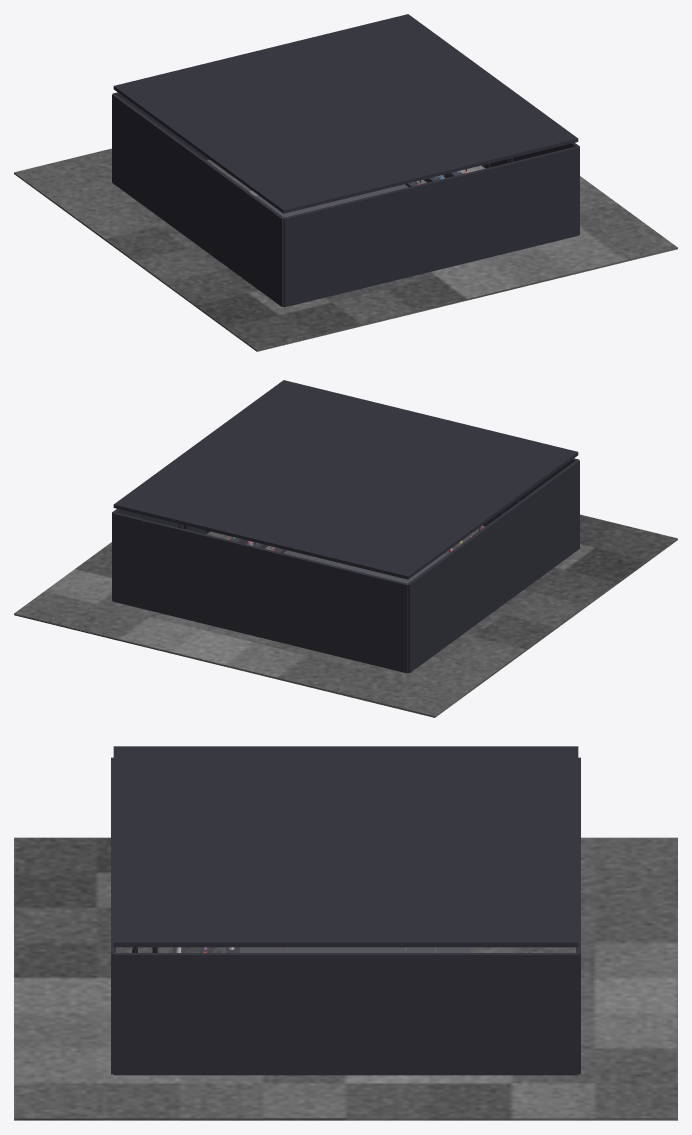
File: Arena.glb
3 renders of one model, top to bottom at view 1: azimuth 30°, elevation 25°; view 2: azimuth 150°, elevation 25°; view 3: azimuth 270°, elevation 25°, orthographic. The views are drawn at different scales.
Parts seen in each view (by area): view 1: Ceiling, ConcreteGround, Wall_0_-14, Wall_-14_0, ArenaFloor; view 2: Ceiling, ConcreteGround, Wall_0_14, Wall_-14_0, ArenaFloor; view 3: Ceiling, ConcreteGround, Wall_14_0, ArenaFloor, Wall_0_14, Wall_0_-14.
Part boxes in pixels (<box>): Ceiling: <box>113,14,578,213</box>; ConcreteGround: <box>14,148,677,351</box>; Wall_0_-14: <box>283,146,579,307</box>; Wall_-14_0: <box>112,94,283,306</box>; ArenaFloor: <box>245,184,408,217</box>; Ceiling: <box>113,380,578,579</box>; ConcreteGround: <box>14,514,677,717</box>; Wall_0_14: <box>112,512,408,673</box>; Wall_-14_0: <box>408,460,579,672</box>; ArenaFloor: <box>283,550,446,583</box>; Ceiling: <box>113,746,578,947</box>; ConcreteGround: <box>14,837,677,1120</box>; Wall_14_0: <box>113,953,578,1075</box>; ArenaFloor: <box>221,947,470,952</box>; Wall_0_14: <box>576,757,580,1074</box>; Wall_0_-14: <box>111,757,115,1074</box>.
Bounding box in the file's own units: 40 × 9.03 × 40.
Materials: 27 (1 with a texture image).
